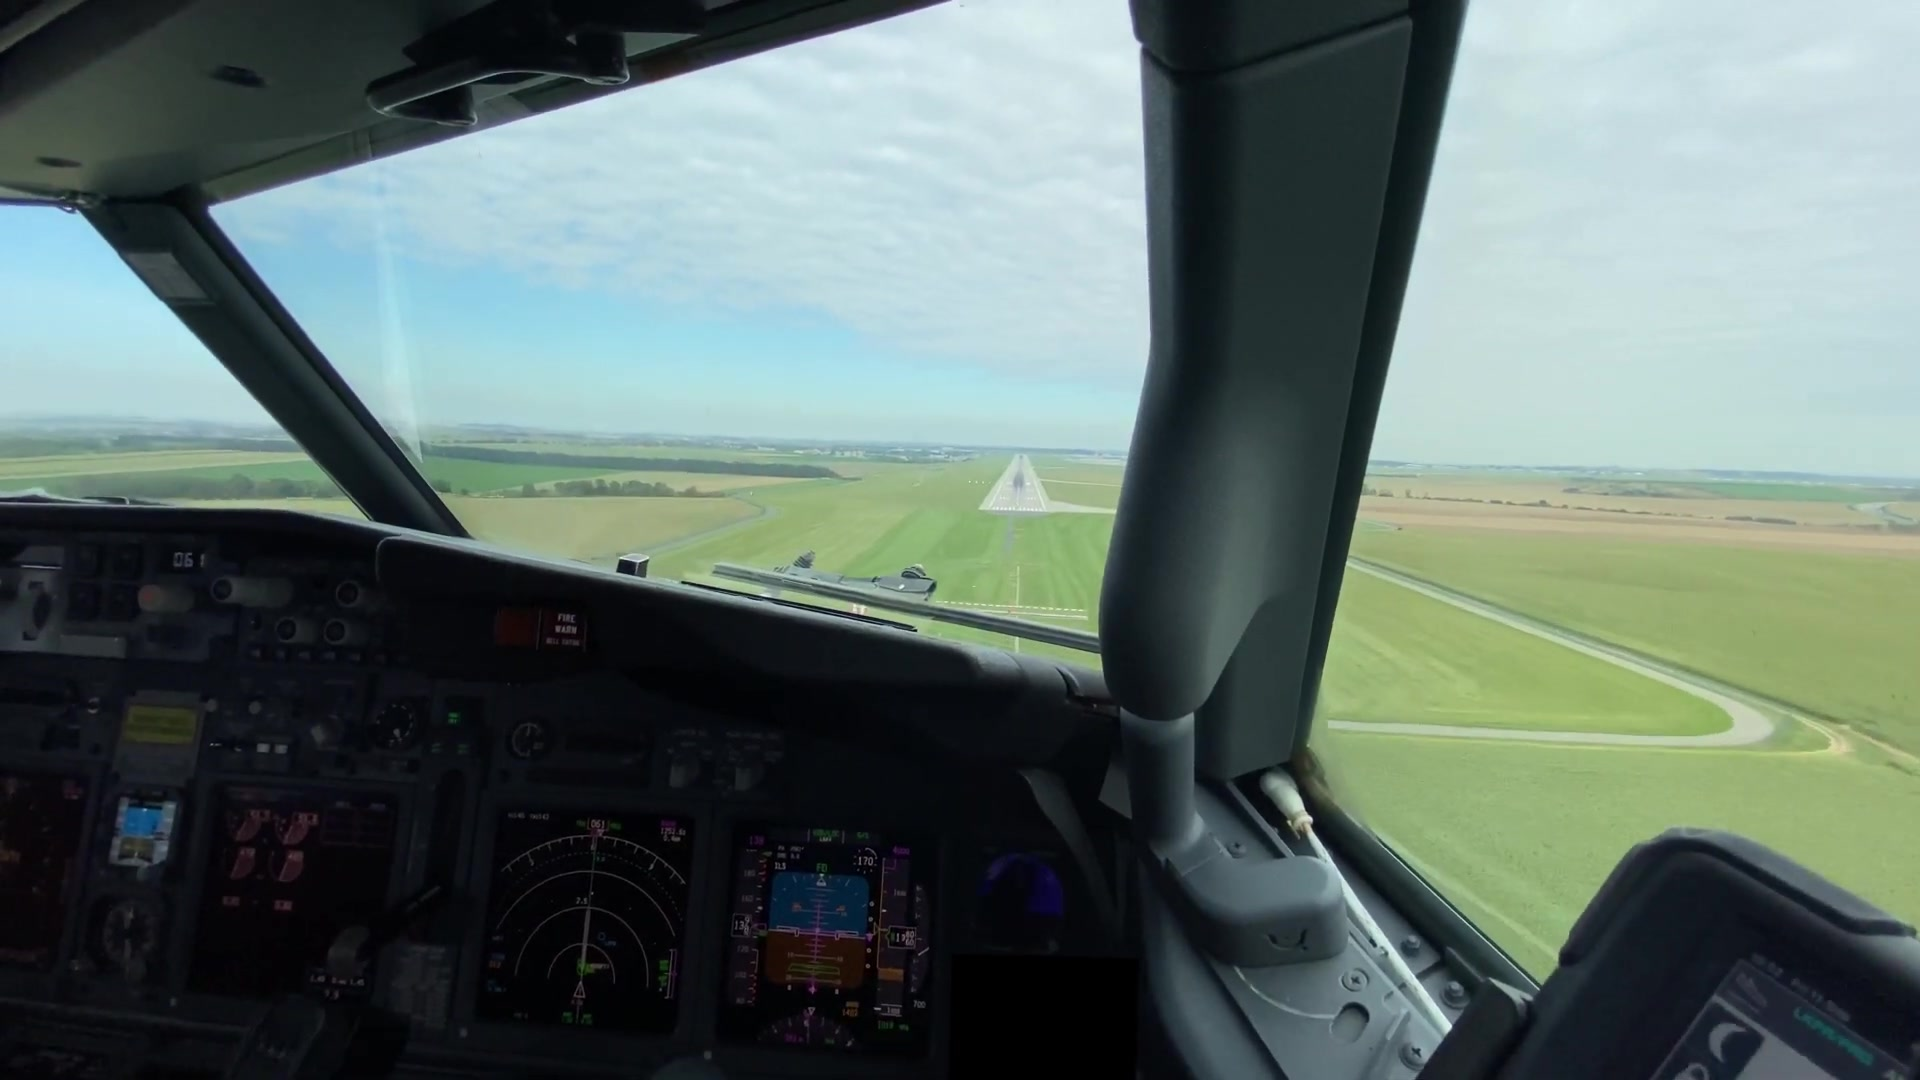entrance: (988, 505, 1044, 513)
runway: (976, 451, 1054, 514)
